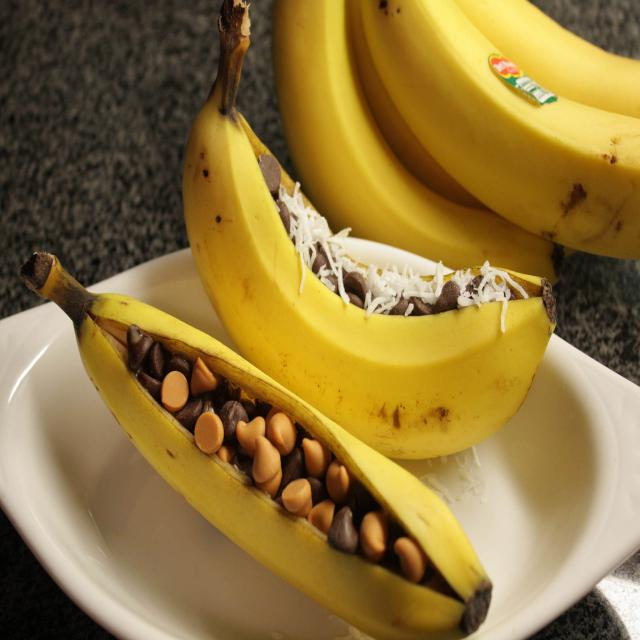banana: (16, 229, 491, 640), (166, 84, 569, 467), (270, 0, 640, 293)
